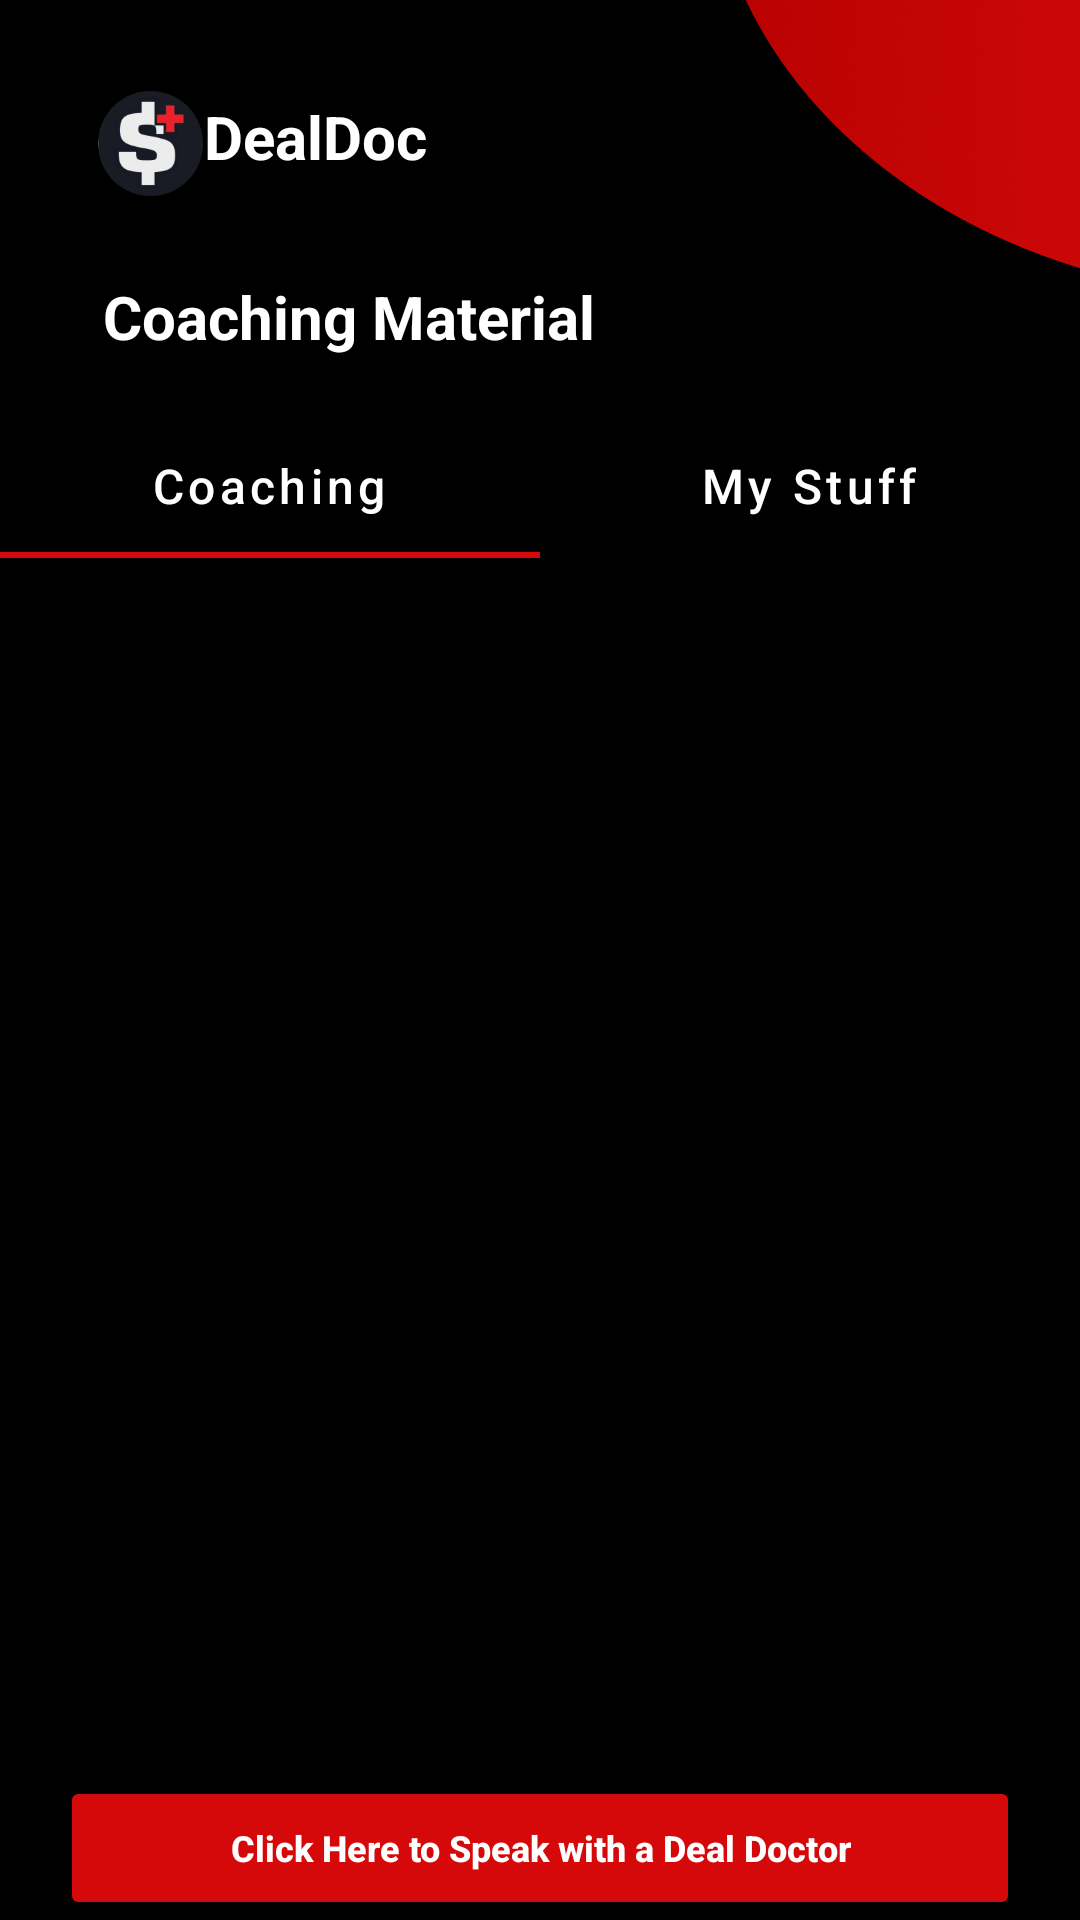

Where icons sit on this 1080*1920 app screen, as [x1,y1,x2,y2]:
dollar: [98,91,203,196]
